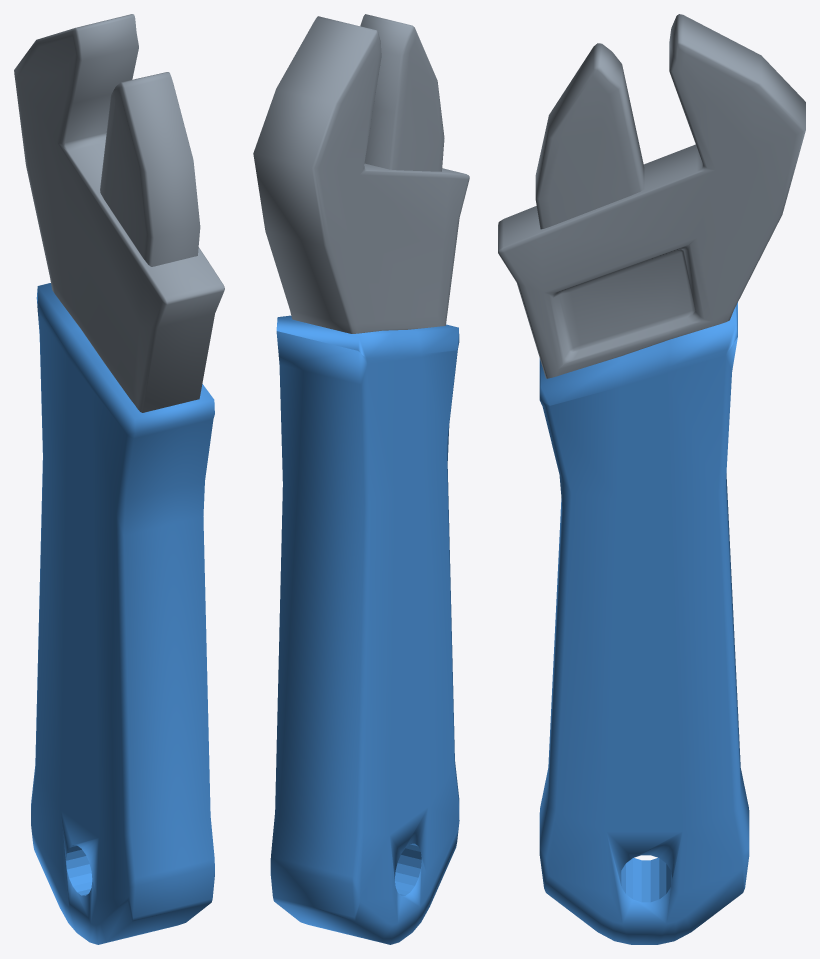
File: key.fbx
The picture shows the model from 3 angles, left to right: view 1: azimuth 30°, elevation 25°; view 2: azimuth 150°, elevation 25°; view 3: azimuth 270°, elevation 25°; orthographic projection. The views are drawn at different scales.
Visible parts, largest first — view 1: key_1; view 2: key_1; view 3: key_1.
Boxes of the visible parts, bbox=[...] form: key_1: bbox=[14, 14, 224, 944]; key_1: bbox=[253, 14, 469, 944]; key_1: bbox=[498, 14, 805, 944].
Size of the model in its own units: 0.5438 by 5.41 by 1.68.
